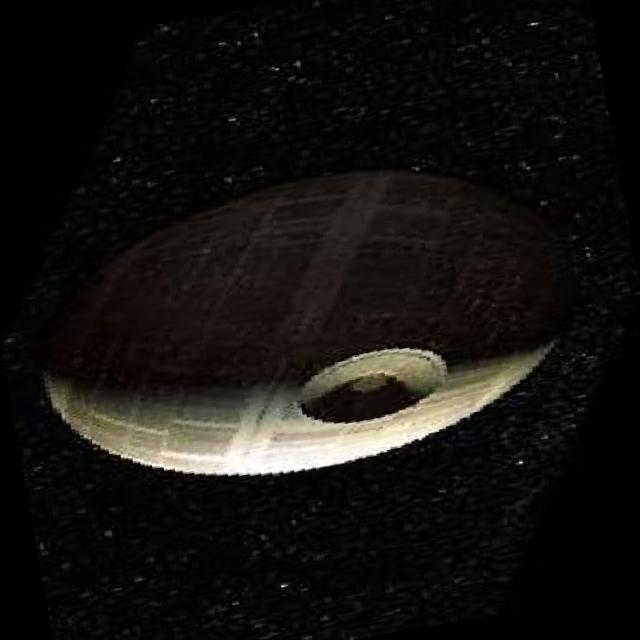Death Star: (4, 127, 614, 519)
